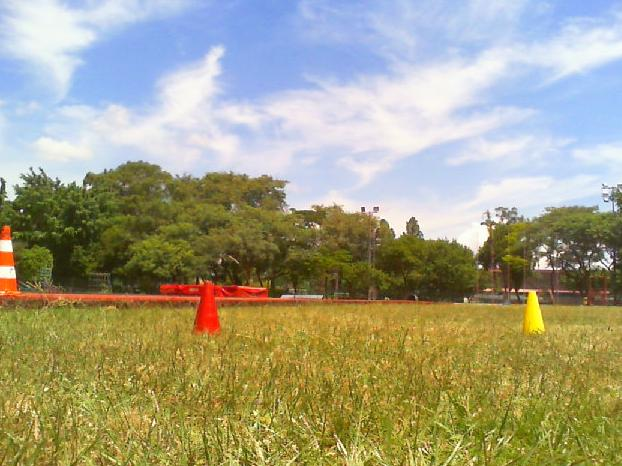0 cone: (191, 282, 221, 335), (0, 224, 22, 294), (521, 291, 544, 333)
